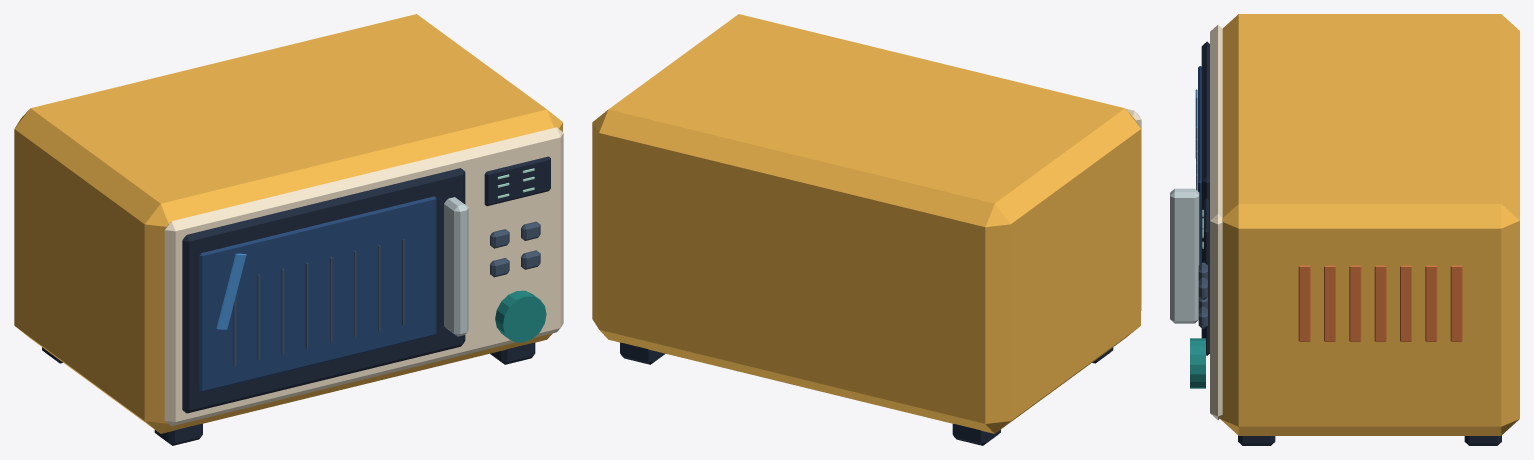
The model's file is Microwave.glb.
The picture shows the model from 3 angles, left to right: view 1: azimuth 30°, elevation 25°; view 2: azimuth 150°, elevation 25°; view 3: azimuth 270°, elevation 25°; orthographic projection.
Visible parts, largest first — view 1: Microwave; view 2: Microwave; view 3: Microwave.
Boxes of the visible parts, bbox=[...] form: Microwave: bbox=[14, 14, 563, 445]; Microwave: bbox=[592, 14, 1141, 445]; Microwave: bbox=[1170, 14, 1519, 445].
Bounding box in the file's own units: 3.66 × 2.06 × 2.62.
Materials: 1 (1 with a texture image).
